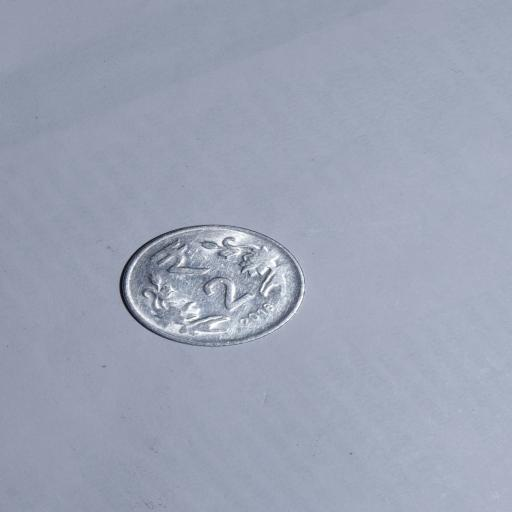rupee2: (118, 225, 308, 346)
